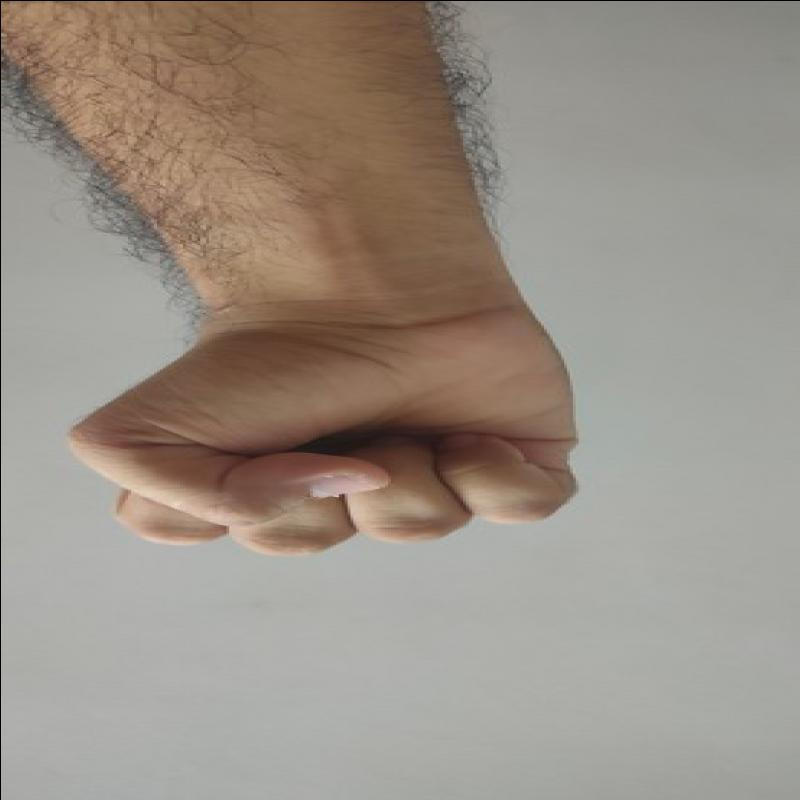Mushti: (51, 284, 609, 565)
